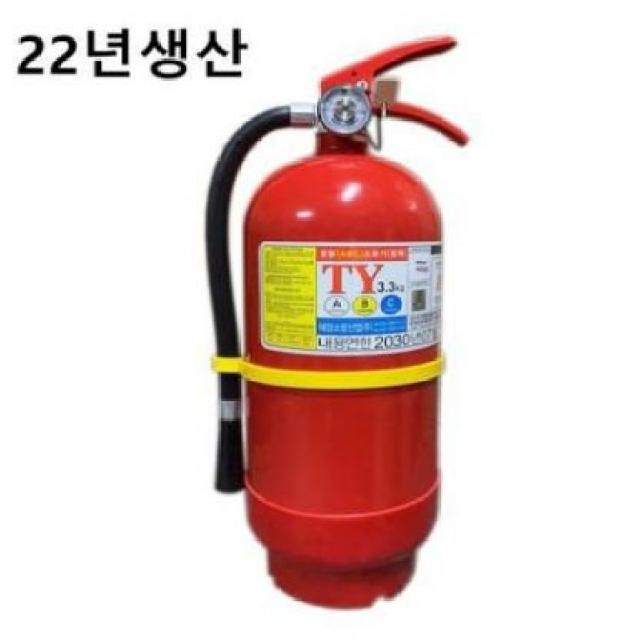fire extinguisher: (203, 34, 469, 611)
